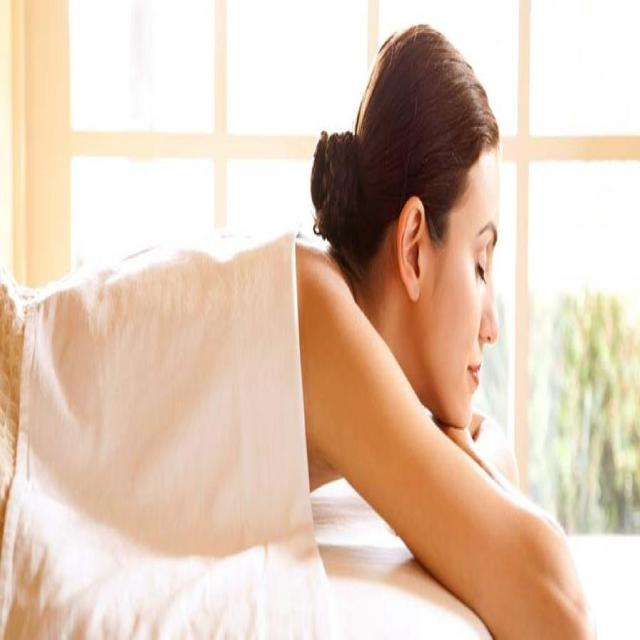nomask: (430, 122, 500, 426)
